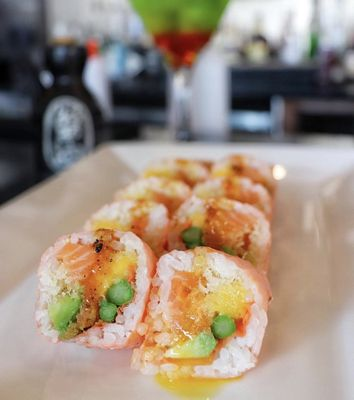soup: (33, 228, 158, 351)
